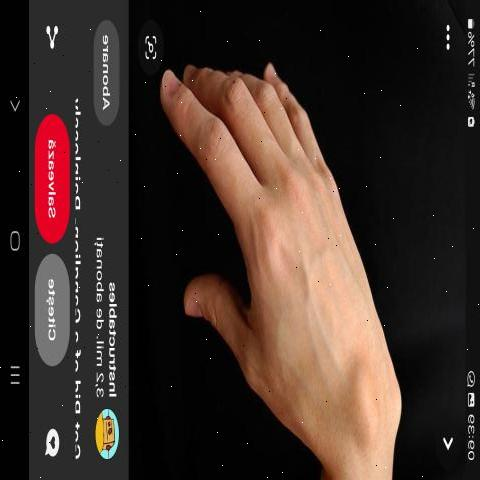Hands: (148, 44, 431, 470)
